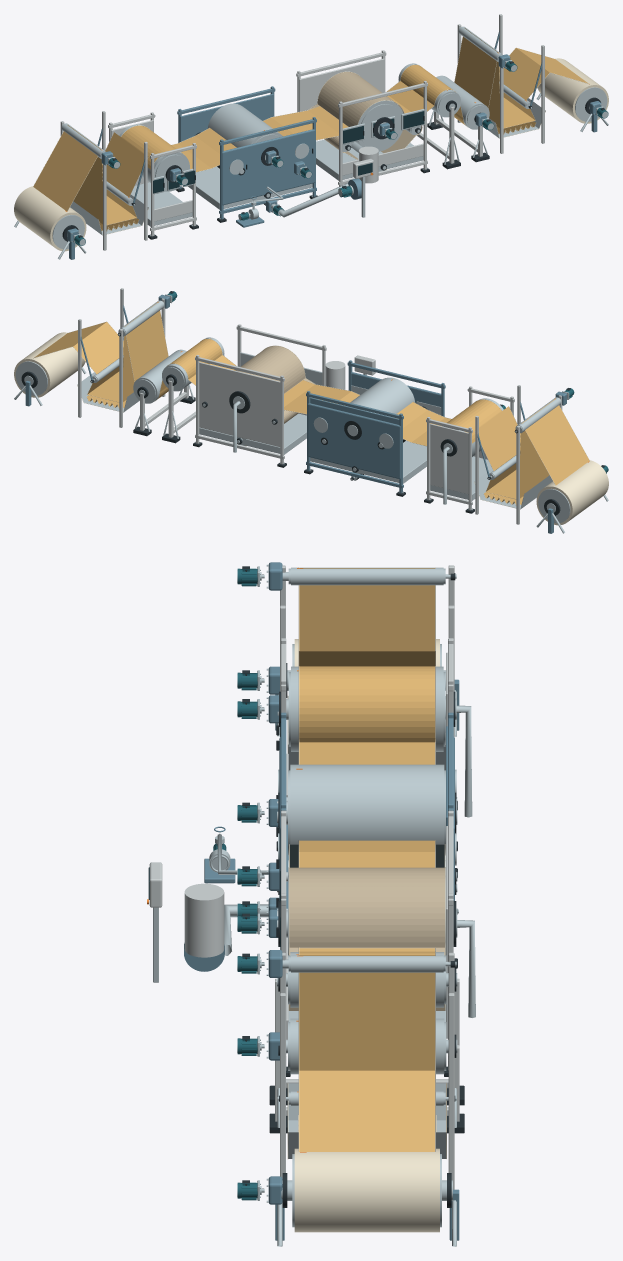
Rendered from sanforizing.glb.
The picture shows the model from 3 angles, top to bottom: view 1: azimuth 30°, elevation 25°; view 2: azimuth 150°, elevation 25°; view 3: azimuth 270°, elevation 25°; orthographic projection. The views are drawn at different scales.
Visible parts, largest first — view 1: SAN_entry_web, sanfor_heavy_sideplate, SAN_cool_web, SAN_exit_web, sanfor_felt_blanket, wet_working_roller, wet_working_roller.004, wet_working_roller.017, wet_bath_back.002, wet_bath_back.001, SAN_felt_web, SAN_steam_web (+27 smaller); view 2: SAN_entry_web, wet_bath_back.002, sanfor_heavy_sideplate.001, SAN_exit_web, SAN_cool_web, wet_bath_back, wet_working_roller, sanfor_felt_blanket, wet_working_roller.017, wet_working_roller.004, wet_bath.002, wet_bath.001 (+26 smaller); view 3: SAN_exit_web, SAN_steam_web, sanfor_felt_blanket, wet_working_roller.004, wet_working_roller.017, SAN_entry_web, wet_working_roller.001, sanfor_filter_vessel, SAN_felt_web, wet_working_roller.015, SAN_shrink_web, wet_working_roller.003 (+4 smaller).
Boxes of the visible parts, left/top/right/bottom form: SAN_entry_web: left=33, top=125, right=147, bottom=224; sanfor_heavy_sideplate: left=222, top=129, right=315, bottom=205; SAN_cool_web: left=387, top=28, right=497, bottom=124; SAN_exit_web: left=488, top=48, right=588, bottom=128; sanfor_felt_blanket: left=308, top=72, right=421, bottom=169; wet_working_roller: left=14, top=186, right=86, bottom=251; wet_working_roller.004: left=207, top=103, right=282, bottom=147; wet_working_roller.017: left=537, top=58, right=608, bottom=123; wet_bath_back.002: left=299, top=58, right=384, bottom=140; wet_bath_back.001: left=180, top=94, right=273, bottom=141; SAN_felt_web: left=272, top=95, right=410, bottom=139; SAN_steam_web: left=121, top=125, right=210, bottom=171; SAN_entry_web: left=475, top=399, right=589, bottom=498; wet_bath_back.002: left=199, top=362, right=280, bottom=446; sanfor_heavy_sideplate.001: left=307, top=403, right=400, bottom=479; SAN_exit_web: left=34, top=322, right=134, bottom=402; SAN_cool_web: left=125, top=302, right=235, bottom=398; wet_bath_back: left=430, top=423, right=468, bottom=494; wet_working_roller: left=536, top=460, right=608, bottom=525; sanfor_felt_blanket: left=235, top=346, right=314, bottom=445; wet_working_roller.017: left=14, top=332, right=85, bottom=397; wet_working_roller.004: left=348, top=377, right=415, bottom=416; wet_bath.002: left=199, top=413, right=306, bottom=454; wet_bath.001: left=310, top=440, right=426, bottom=483; SAN_exit_web: left=299, top=955, right=434, bottom=1151; SAN_steam_web: left=299, top=666, right=435, bottom=764; sanfor_felt_blanket: left=289, top=867, right=444, bottom=1010; wet_working_roller.004: left=290, top=764, right=444, bottom=844; wet_working_roller.017: left=294, top=1148, right=439, bottom=1232; SAN_entry_web: left=299, top=568, right=435, bottom=666; wet_working_roller.001: left=291, top=567, right=443, bottom=585; sanfor_filter_vessel: left=184, top=883, right=224, bottom=957; SAN_felt_web: left=299, top=852, right=434, bottom=951; wet_working_roller.015: left=291, top=955, right=443, bottom=972; SAN_shrink_web: left=299, top=840, right=434, bottom=851; wet_working_roller.003: left=291, top=666, right=443, bottom=751.
Size of the model in its own units: 17.59 by 2.96 by 4.48.
